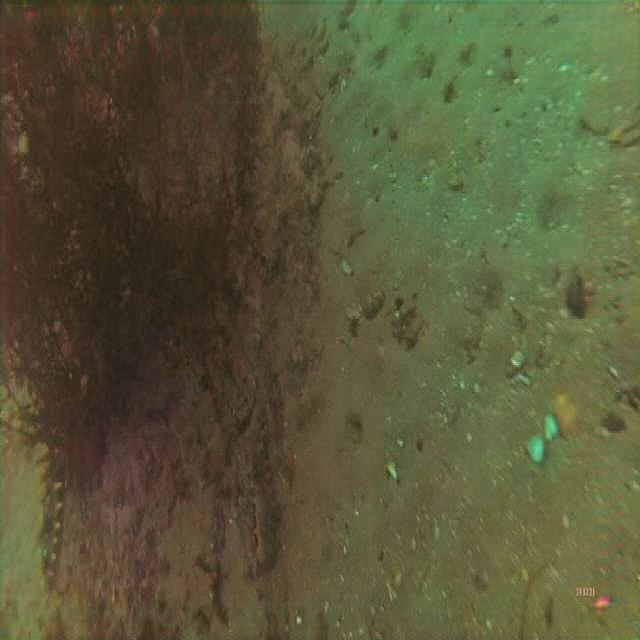holothurian: (245, 403, 287, 577), (36, 452, 66, 589)
